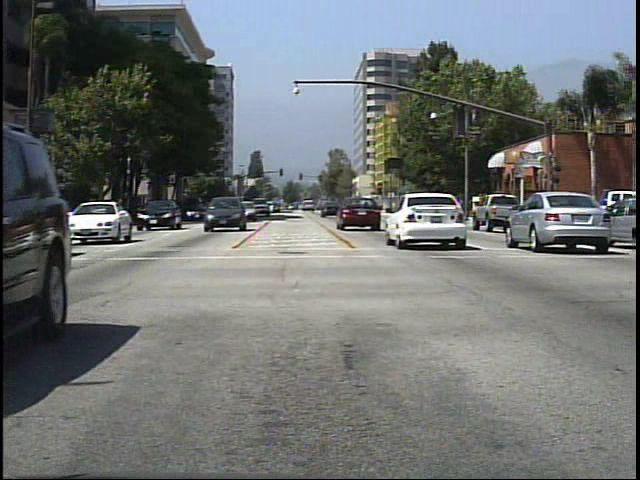person: (494, 189, 512, 224), (533, 193, 551, 228)
